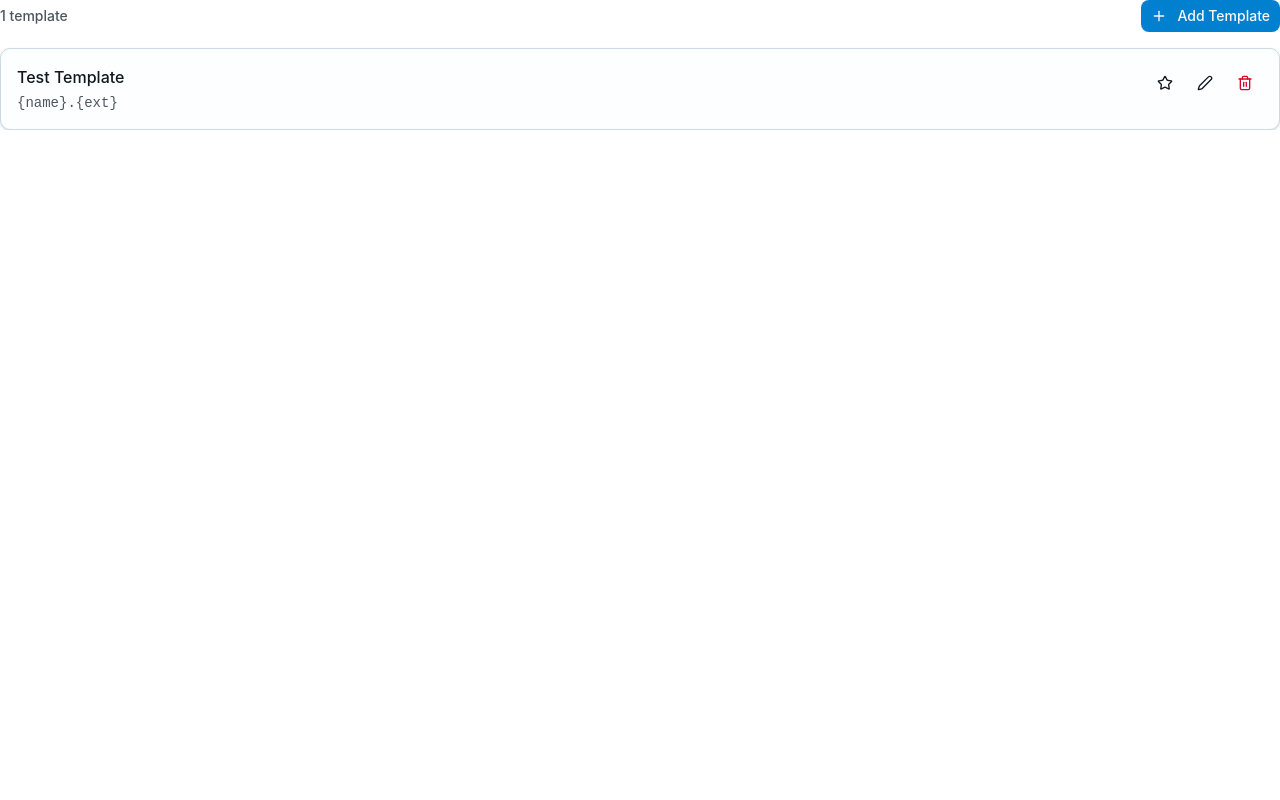
Scenario: TemplateList › delete confirmation › shows confirmation dialog when delete is clicked
Click the button with test id "delete-template-test-id" at point(1245, 83), box [1227,65,1263,101]
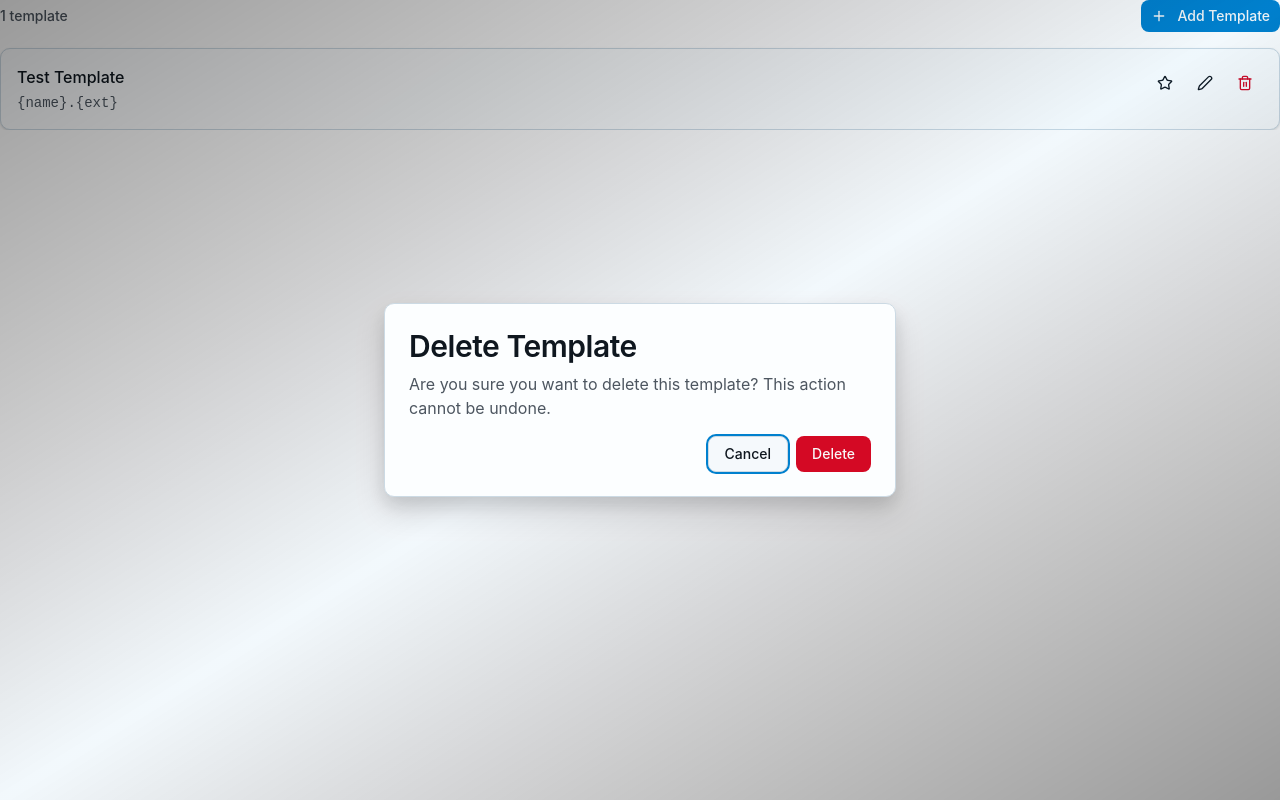
Expected: the dialog with test id "delete-confirmation" is shown, [384,303,896,497]
